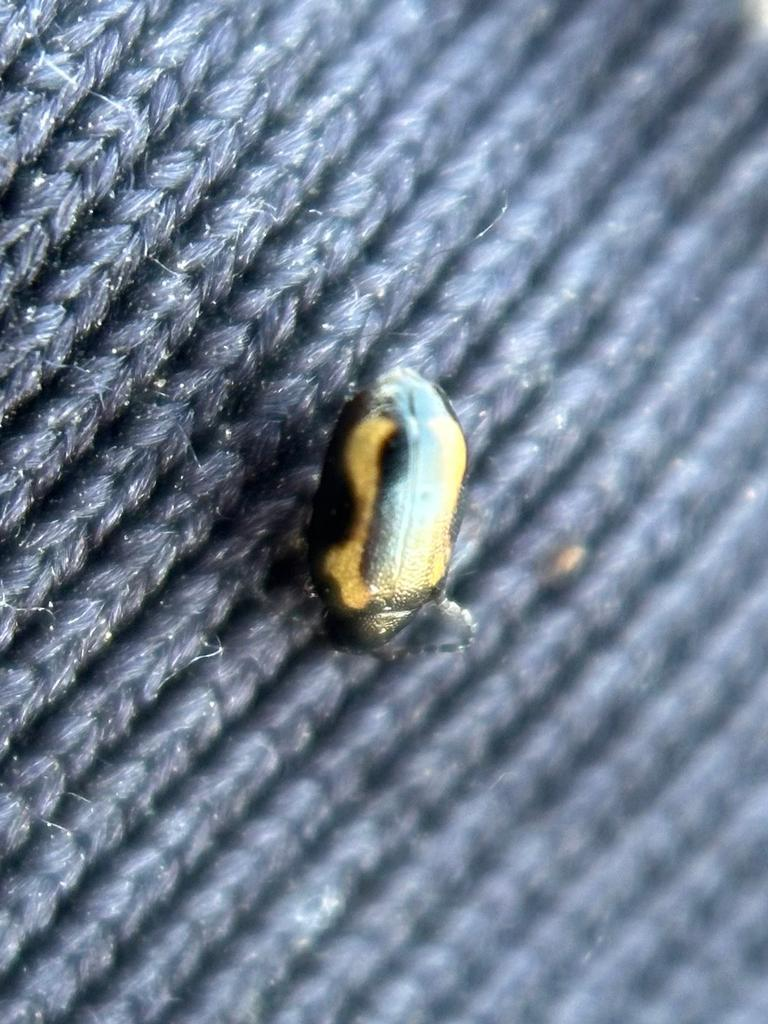flea_beetle: (269, 287, 519, 715)
